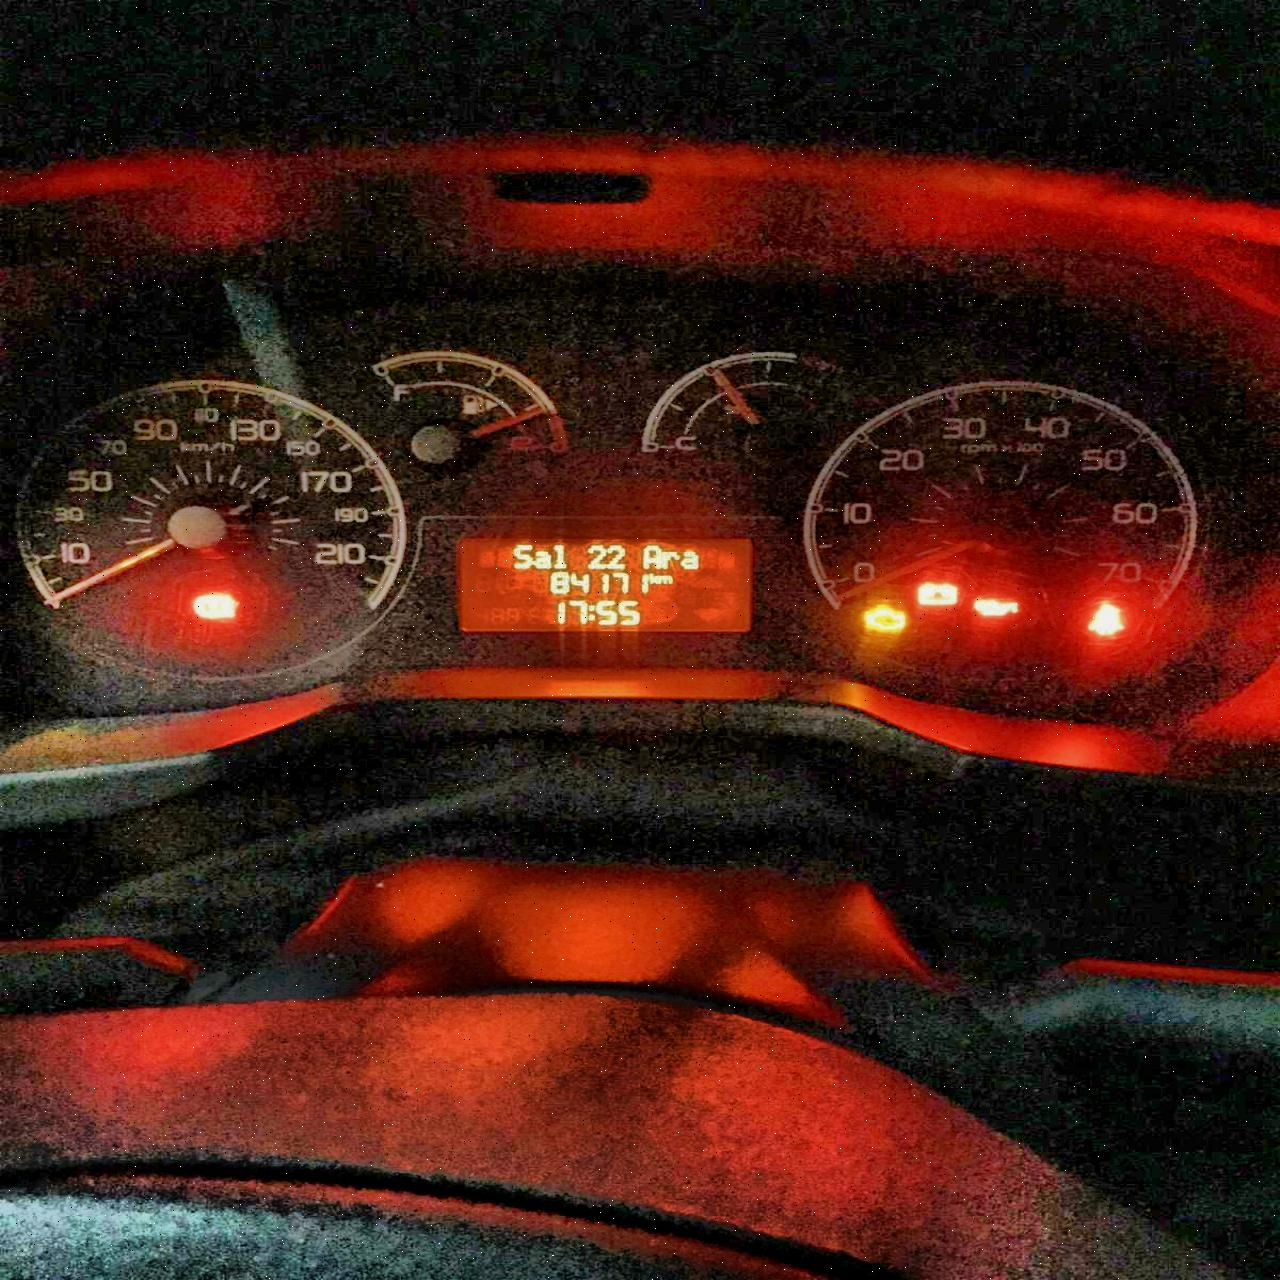1: (553, 598, 566, 626), (600, 571, 611, 594), (640, 573, 647, 597)
2: (605, 542, 628, 568), (585, 542, 606, 568)
4: (568, 570, 592, 592)
5: (594, 599, 617, 626), (618, 599, 640, 626)
7: (565, 598, 586, 625), (613, 570, 631, 592)
8: (551, 572, 568, 594)
X: (512, 543, 533, 568), (644, 543, 662, 570), (679, 549, 700, 571), (551, 543, 568, 568), (661, 549, 680, 568), (535, 550, 551, 568), (587, 602, 595, 624), (658, 573, 672, 584), (648, 572, 659, 583)
odometer: (455, 535, 754, 635)
